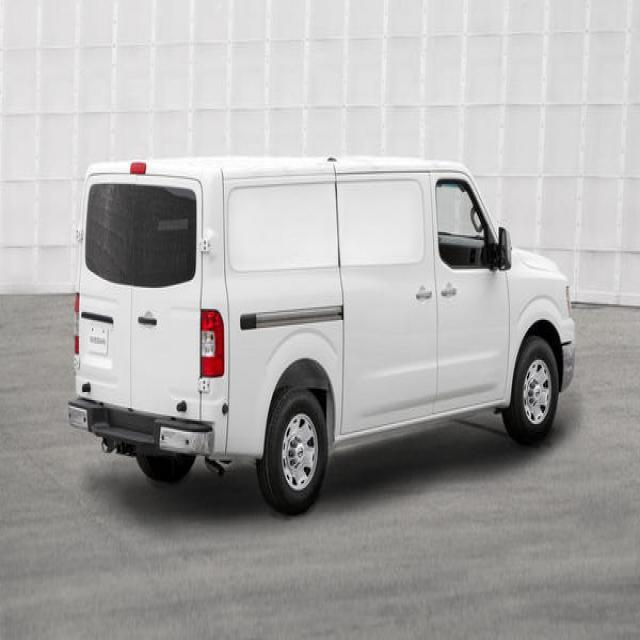Van: (49, 130, 600, 534)
